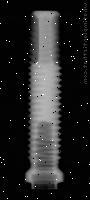Sterngold: (24, 9, 64, 188)
